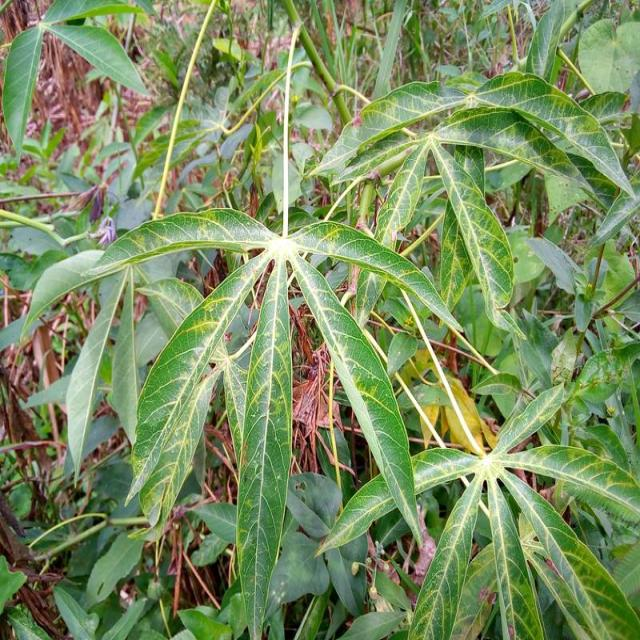cassava leaf: (8, 9, 637, 638), (123, 247, 272, 542), (287, 247, 423, 554)
